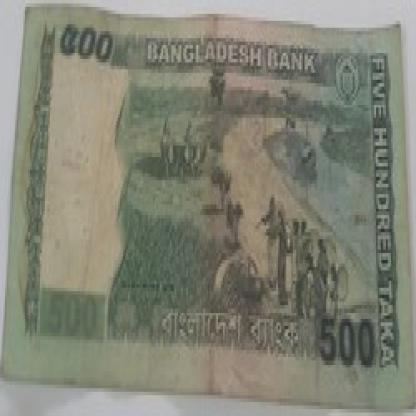500 taka: (45, 14, 131, 66)
currency: (3, 7, 414, 412)
